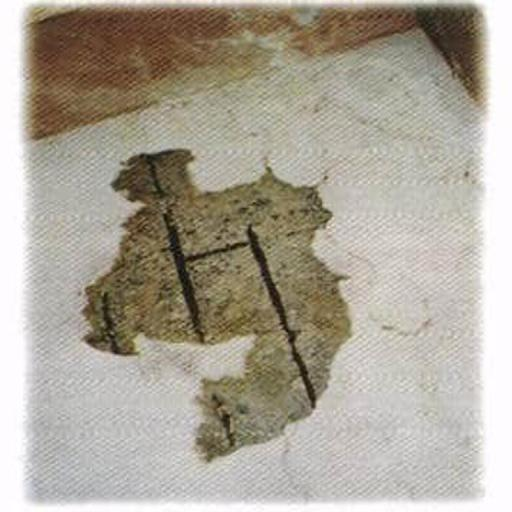spalling: (77, 145, 352, 462)
